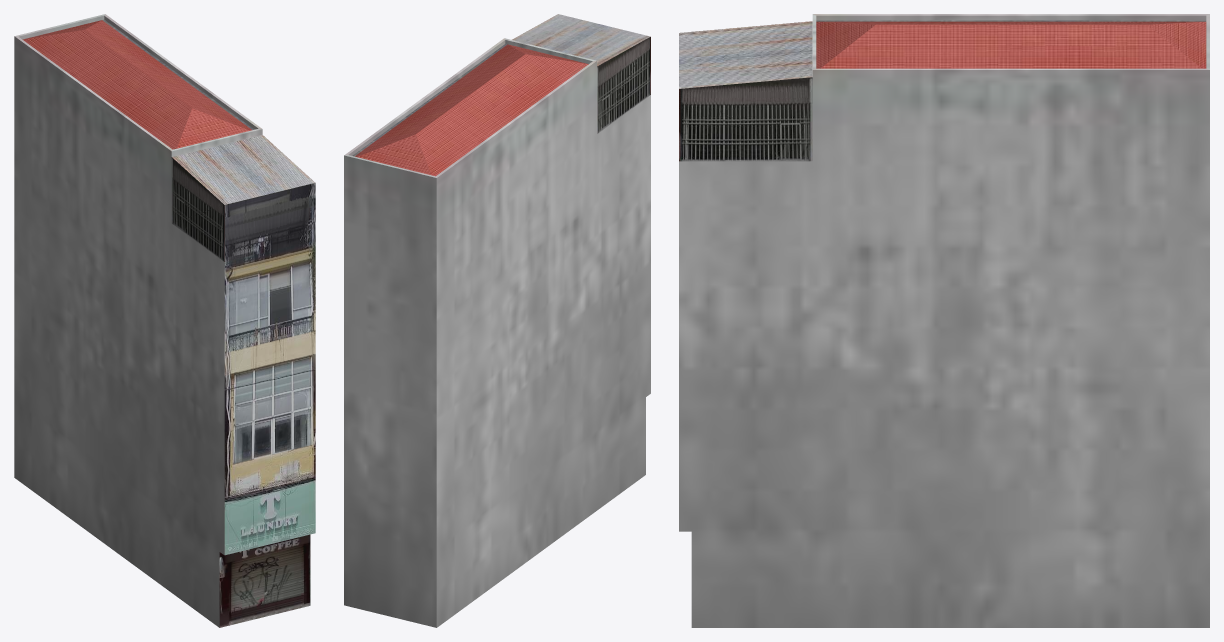
3 renders of one model, left to right at view 1: azimuth 30°, elevation 25°; view 2: azimuth 150°, elevation 25°; view 3: azimuth 270°, elevation 25°, orthographic. The views are drawn at different scales.
Parts seen in each view (by area): view 1: HN028_TLaundry; view 2: HN028_TLaundry; view 3: HN028_TLaundry.
Boxes of the visible parts, x1,y1,x2,y2 form: HN028_TLaundry: [14, 14, 315, 627]; HN028_TLaundry: [344, 14, 650, 627]; HN028_TLaundry: [679, 14, 1209, 627].
Bounding box in the file's own units: 5 × 23.9 × 20.
Materials: 1 (1 with a texture image).
